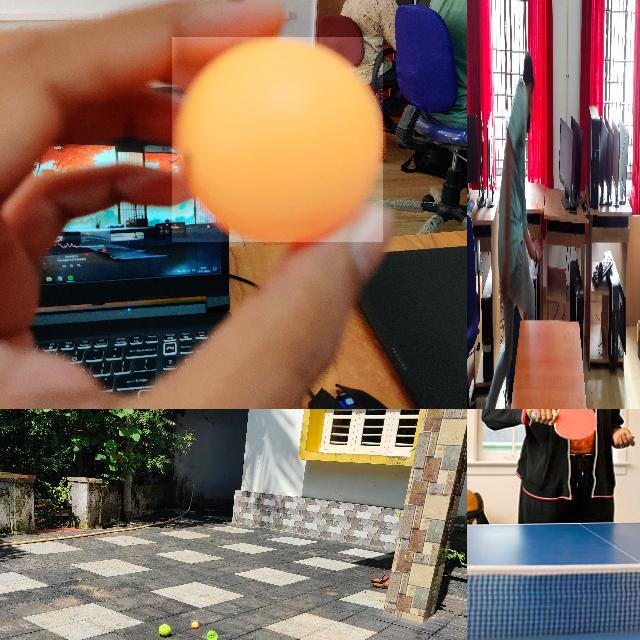ping-pong-ball: (172, 37, 384, 243), (191, 620, 199, 628), (536, 199, 538, 211)
